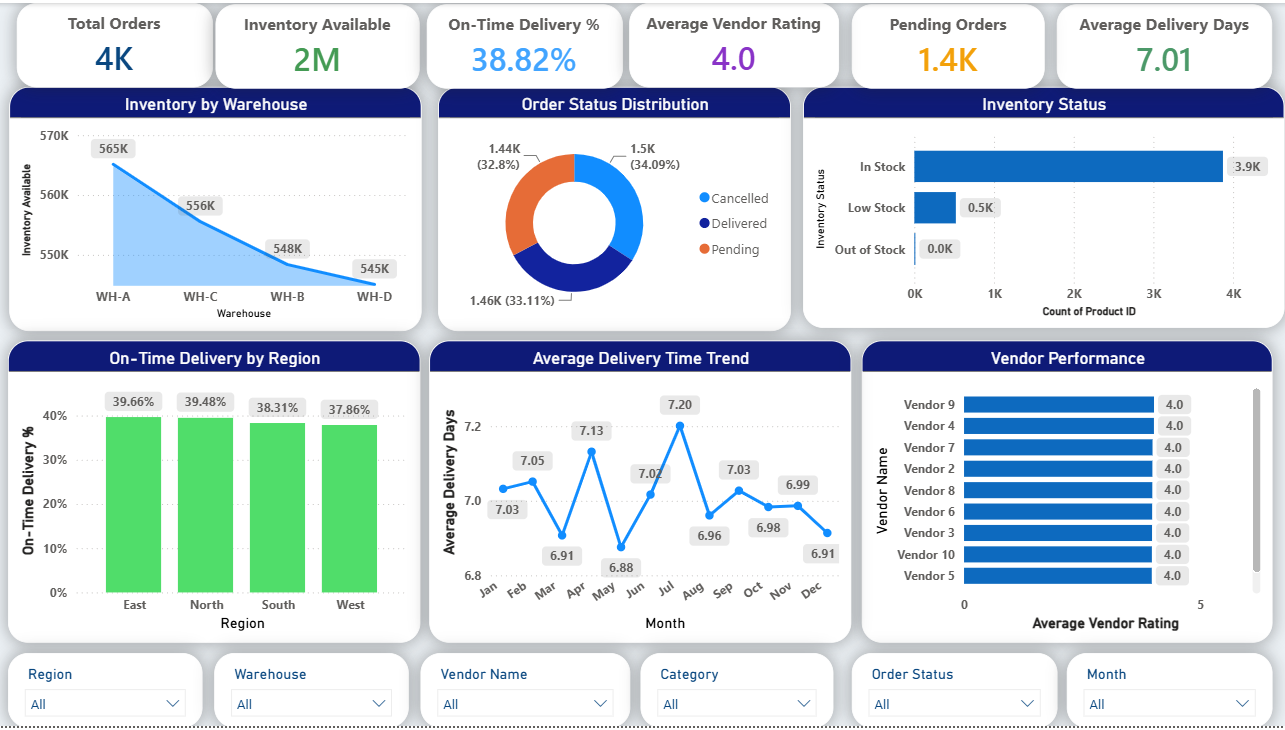

What the dashboard file says about the page in this screenshot:
{"tool":"powerbi","page":{"name":"Page 1","canvas":[1280,720],"ordinal":0},"visuals":[{"type":"areaChart","title":"Inventory by Warehouse","fields":{"Category":["SupplyChain.Warehouse"],"Y":["Sum(SupplyChain.Inventory Available)"]},"box":[11,83.7,410.3,242.9],"z":0},{"type":"donutChart","title":"Order Status Distribution","fields":{"Category":["SupplyChain.Order Status"],"Y":["CountNonNull(SupplyChain.Order ID)"]},"box":[437.9,83.3,351.3,242.9],"z":1000},{"type":"tableEx","title":"Vendor Performance","fields":{"Values":["SupplyChain.Vendor Name","SupplyChain.Order ID","SupplyChain.Average Vendor Rating","Avg(SupplyChain.Lead Time (Days))","Sum(SupplyChain.Sales Amount)"]},"box":[858.3,335.9,408.9,300.5],"z":2000},{"type":"columnChart","title":"On-Time Delivery by Region","fields":{"Category":["SupplyChain.Region"],"Y":["SupplyChain.On-Time Delivery %"]},"box":[9.6,336.2,410.3,300.5],"z":3000},{"type":"lineChart","title":"Average Delivery Time Trend","fields":{"Category":["SupplyChain.Month"],"Y":["SupplyChain.Average Delivery Days"]},"box":[429.5,336.2,419.9,300.5],"z":4000},{"type":"barChart","title":"Inventory Status","fields":{"Category":["SupplyChain.Inventory Status"],"Y":["CountNonNull(SupplyChain.Product ID)"]},"box":[801.4,83.7,478.9,240.1],"z":5000},{"type":"slicer","title":"Inventory Status","fields":{"Values":["SupplyChain.Region"]},"box":[9.6,646.3,193.5,74.1],"z":6000},{"type":"slicer","title":"Inventory Status","fields":{"Values":["SupplyChain.Warehouse"]},"box":[215.4,646.3,193.5,74.1],"z":7000},{"type":"slicer","title":"Inventory Status","fields":{"Values":["SupplyChain.Vendor Name"]},"box":[419.9,646.3,208.6,74.1],"z":8000},{"type":"slicer","title":"Inventory Status","fields":{"Values":["SupplyChain.Order Status"]},"box":[849.4,646.3,204.5,74.1],"z":9000},{"type":"slicer","title":"Inventory Status","fields":{"Values":["SupplyChain.Category"]},"box":[639.5,646.3,192.1,74.1],"z":10000},{"type":"slicer","title":"Inventory Status","fields":{"Values":["SupplyChain.Month"]},"box":[1063.5,646.3,204.5,74.1],"z":11000},{"type":"cardVisual","title":"Inventory Status","fields":{"Data":["SupplyChain.Total Orders"]},"box":[19.2,0,194.9,83.7],"z":12000},{"type":"cardVisual","title":"Inventory Status","fields":{"Data":["Sum(SupplyChain.Inventory Available)"]},"box":[216.8,1.4,203.1,83.7],"z":13000},{"type":"cardVisual","title":"Inventory Status","fields":{"Data":["SupplyChain.Average Delivery Days"]},"box":[1053.9,1.4,214.1,83.7],"z":14000},{"type":"cardVisual","title":"Inventory Status","fields":{"Data":["SupplyChain.Pending Orders"]},"box":[849.4,1.4,192.1,83.7],"z":15000},{"type":"cardVisual","title":"Inventory Status","fields":{"Data":["SupplyChain.On-Time Delivery %"]},"box":[426.8,1.4,194.9,83.7],"z":16000},{"type":"cardVisual","title":"Inventory Status","fields":{"Data":["SupplyChain.Average Vendor Rating"]},"box":[628.5,0,208.6,83.7],"z":17000}]}

Visuals, with their boxes in screenshot pixels (x1, y1, x2, y2), scaled from the page's 1280x720 canvas onto the 1285x730 screenshot:
"Inventory by Warehouse" areaChart: box=[11, 85, 423, 331]
"Order Status Distribution" donutChart: box=[440, 84, 792, 331]
"Vendor Performance" tableEx: box=[862, 341, 1272, 645]
"On-Time Delivery by Region" columnChart: box=[10, 341, 422, 646]
"Average Delivery Time Trend" lineChart: box=[431, 341, 853, 646]
"Inventory Status" barChart: box=[805, 85, 1284, 328]
"Inventory Status" slicer: box=[10, 655, 204, 729]
"Inventory Status" slicer: box=[216, 655, 410, 729]
"Inventory Status" slicer: box=[422, 655, 631, 729]
"Inventory Status" slicer: box=[853, 655, 1058, 729]
"Inventory Status" slicer: box=[642, 655, 835, 729]
"Inventory Status" slicer: box=[1068, 655, 1273, 729]
"Inventory Status" cardVisual: box=[19, 0, 215, 85]
"Inventory Status" cardVisual: box=[218, 1, 422, 86]
"Inventory Status" cardVisual: box=[1058, 1, 1273, 86]
"Inventory Status" cardVisual: box=[853, 1, 1046, 86]
"Inventory Status" cardVisual: box=[428, 1, 624, 86]
"Inventory Status" cardVisual: box=[631, 0, 840, 85]
